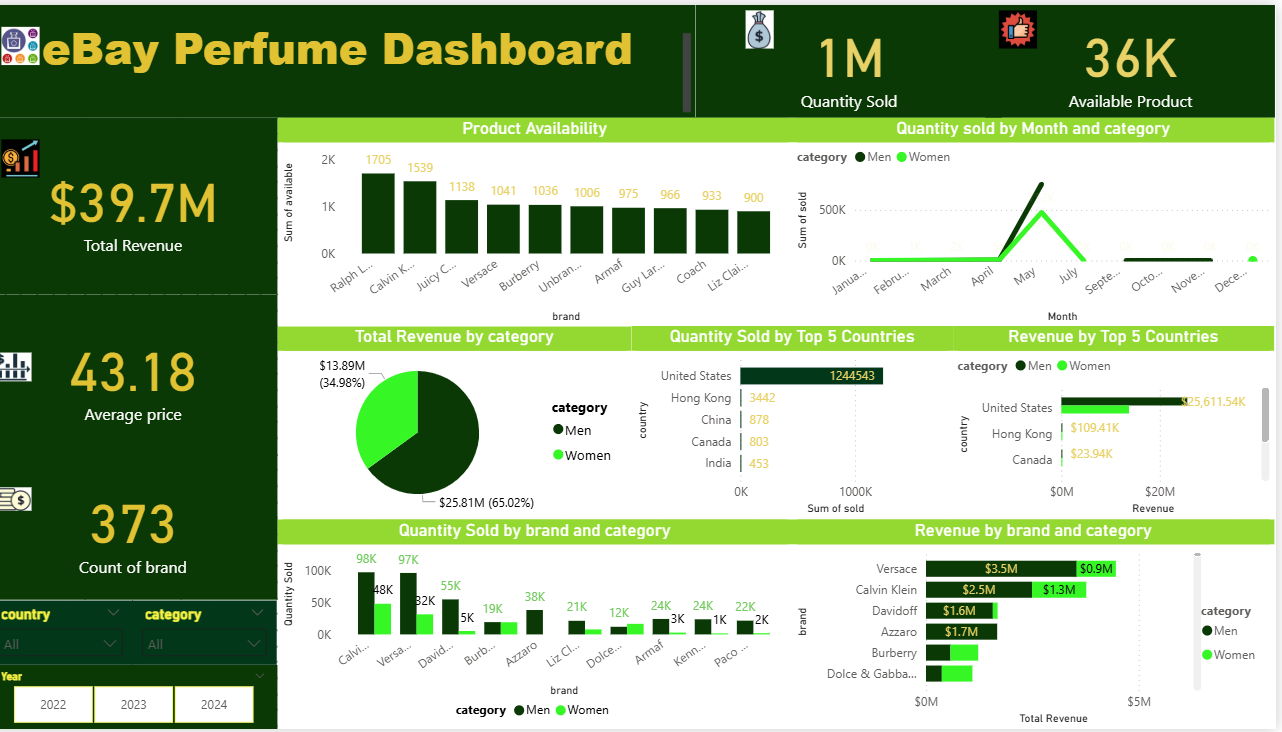

What the dashboard file says about the page in this screenshot:
{"tool":"powerbi","page":{"name":"Page 2","canvas":[1280,720],"ordinal":1},"visuals":[{"type":"pieChart","title":"Total Revenue by category","fields":{"Category":["ebay_womens_perfume.Category"],"Y":["Sum(ebay_womens_perfume.TotalSales)"]},"box":[288,320,352,192],"z":0},{"type":"card","fields":{"Values":["Count(ebay_womens_perfume.brand)"]},"box":[0,448,288,144],"z":0,"group":"g1"},{"type":"clusteredColumnChart","title":"Product Availability","fields":{"Category":["ebay_womens_perfume.brand"],"Y":["Sum(ebay_womens_perfume.available)"]},"box":[288,112,512,208],"z":1000},{"type":"textbox","box":[0,0,704,112],"z":2000},{"type":"card","fields":{"Values":["Sum(ebay_womens_perfume.TotalSales)"]},"box":[0,112,288,176],"z":2000,"group":"g3"},{"type":"lineChart","title":"Quantity sold by Month and category","fields":{"Category":["ebay_womens_perfume.lastUpdated.Variation.Date Hierarchy.Month"],"Y":["Sum(ebay_womens_perfume.sold)"],"Series":["ebay_womens_perfume.category"]},"box":[800,112,480,208],"z":3000},{"type":"card","fields":{"Values":["Avg(ebay_womens_perfume.price(USD))"]},"box":[0,288,288,160],"z":3000,"group":"g2"},{"type":"card","fields":{"Values":["Sum(ebay_womens_perfume.sold)"]},"box":[704,0,304,112],"z":4000,"group":"g4"},{"type":"clusteredBarChart","title":"Revenue by Top 5 Countries","fields":{"Category":["ebay_womens_perfume.country"],"Y":["Sum(ebay_womens_perfume.TotalSales)"],"Series":["ebay_womens_perfume.category"]},"box":[960,320,320,192],"z":4000},{"type":"clusteredColumnChart","fields":{"Category":["ebay_womens_perfume.brand"],"Series":["ebay_womens_perfume.category"],"Y":["Sum(ebay_womens_perfume.sold)"]},"box":[288,512,512,208],"z":5000},{"type":"barChart","title":"Revenue by brand and category","fields":{"Category":["ebay_womens_perfume.brand"],"Y":["Sum(ebay_womens_perfume.TotalSales)"],"Series":["ebay_womens_perfume.Category"]},"box":[800,512,480,208],"z":6000},{"type":"slicer","fields":{"Values":["ebay_womens_perfume.date.Variation.Date Hierarchy.Year"]},"box":[0,656,288,64],"z":7000},{"type":"slicer","fields":{"Values":["ebay_womens_perfume.country"]},"box":[0,592,144,64],"z":8000},{"type":"slicer","fields":{"Values":["ebay_womens_perfume.category"]},"box":[144,592,144,64],"z":9000},{"type":"barChart","title":"Quantity Sold by Top 5 Countries","fields":{"Category":["ebay_womens_perfume.country"],"Y":["Sum(ebay_womens_perfume.sold)"]},"box":[640,320,320,192],"z":10000},{"type":"card","fields":{"Values":["Sum(ebay_womens_perfume.available)"]},"box":[992,0,288,112],"z":11000,"group":"g5"},{"type":"group","id":"g1","title":"Group 1","box":[0,448,288,144],"z":11000},{"type":"image","box":[992,0,64,48],"z":12000,"group":"g5"},{"type":"group","id":"g2","title":"Group 2","box":[0,288,288,160],"z":12000},{"type":"group","id":"g3","title":"Group 3","box":[0,112,288,176],"z":13000},{"type":"image","box":[0,128,64,48],"z":13000,"group":"g3"},{"type":"group","id":"g4","title":"Group 5","box":[704,0,304,112],"z":14000},{"type":"image","box":[736,0,64,48],"z":14000,"group":"g4"},{"type":"group","id":"g5","title":"Group 6","box":[992,0,288,112],"z":15000},{"type":"image","box":[0,456,48,72],"z":15000,"group":"g1"},{"type":"image","box":[0,16,64,48],"z":16000},{"type":"image","box":[0,336,48,48],"z":21000,"group":"g2"}]}

Visuals, with their boxes in screenshot pixels (x1, y1, x2, y2), scaled from the page's 1280x720 canvas onto the 1282x732 screenshot:
"Total Revenue by category" pieChart: [x1=288, y1=325, x2=641, y2=521]
card - Count(ebay_womens_perfume.brand): [x1=0, y1=455, x2=288, y2=602]
"Product Availability" clusteredColumnChart: [x1=288, y1=114, x2=801, y2=325]
textbox: [x1=0, y1=0, x2=705, y2=114]
card - Sum(ebay_womens_perfume.TotalSales): [x1=0, y1=114, x2=288, y2=293]
"Quantity sold by Month and category" lineChart: [x1=801, y1=114, x2=1281, y2=325]
card - Avg(ebay_womens_perfume.price(USD)): [x1=0, y1=293, x2=288, y2=455]
card - Sum(ebay_womens_perfume.sold): [x1=705, y1=0, x2=1010, y2=114]
"Revenue by Top 5 Countries" clusteredBarChart: [x1=961, y1=325, x2=1281, y2=521]
clusteredColumnChart - ebay_womens_perfume.brand x ebay_womens_perfume.category: [x1=288, y1=521, x2=801, y2=731]
"Revenue by brand and category" barChart: [x1=801, y1=521, x2=1281, y2=731]
slicer - ebay_womens_perfume.date.Variation.Date Hierarchy.Year: [x1=0, y1=667, x2=288, y2=731]
slicer - ebay_womens_perfume.country: [x1=0, y1=602, x2=144, y2=667]
slicer - ebay_womens_perfume.category: [x1=144, y1=602, x2=288, y2=667]
"Quantity Sold by Top 5 Countries" barChart: [x1=641, y1=325, x2=961, y2=521]
card - Sum(ebay_womens_perfume.available): [x1=994, y1=0, x2=1281, y2=114]
"Group 1" group: [x1=0, y1=455, x2=288, y2=602]
image: [x1=994, y1=0, x2=1058, y2=49]
"Group 2" group: [x1=0, y1=293, x2=288, y2=455]
"Group 3" group: [x1=0, y1=114, x2=288, y2=293]
image: [x1=0, y1=130, x2=64, y2=179]
"Group 5" group: [x1=705, y1=0, x2=1010, y2=114]
image: [x1=737, y1=0, x2=801, y2=49]
"Group 6" group: [x1=994, y1=0, x2=1281, y2=114]
image: [x1=0, y1=464, x2=48, y2=537]
image: [x1=0, y1=16, x2=64, y2=65]
image: [x1=0, y1=342, x2=48, y2=390]
